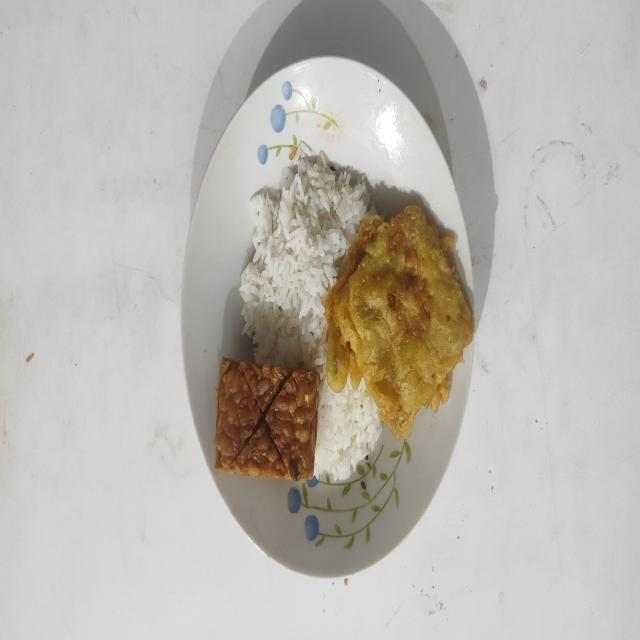nasi_putih: (239, 141, 382, 480)
tempe_goreng: (216, 357, 320, 480)
